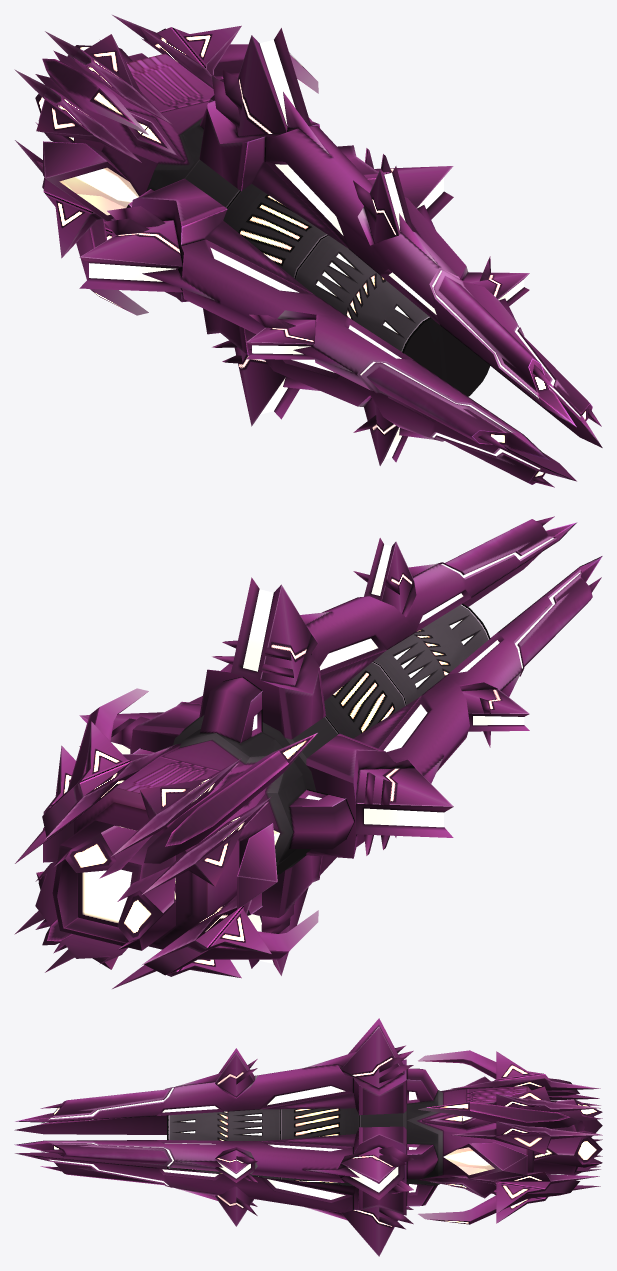
3 renders of one model, top to bottom at view 1: azimuth 30°, elevation 25°; view 2: azimuth 150°, elevation 25°; view 3: azimuth 270°, elevation 25°, orthographic. The views are drawn at different scales.
Parts seen in each view (by area): view 1: body; view 2: body; view 3: body.
Part boxes in pixels (x1=…): body: x1=14, y1=15, x2=602, y2=487; body: x1=14, y1=516, x2=602, y2=988; body: x1=14, y1=1018, x2=602, y2=1256.
Size of the model in its own units: 350 by 350 by 812.
Materials: 1 (1 with a texture image).
